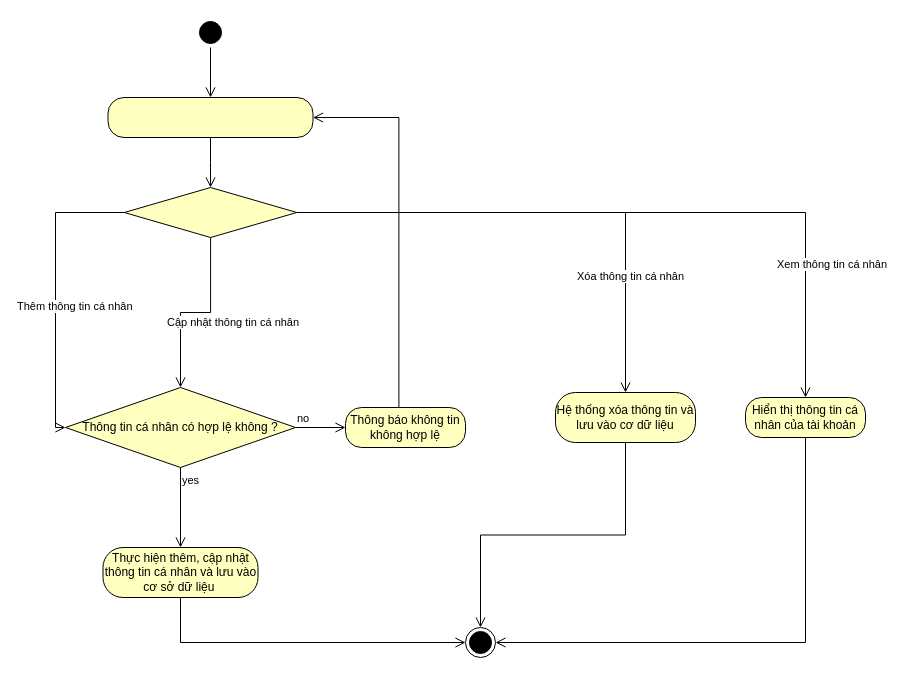
This 904x675 diagram has some shape labels left out. Each missing label, with the centre of its shape:
Người dùng thực hiện: point 210,212
Người mua quản lý thông tin cá nhân của tài khoản: point 210,117
